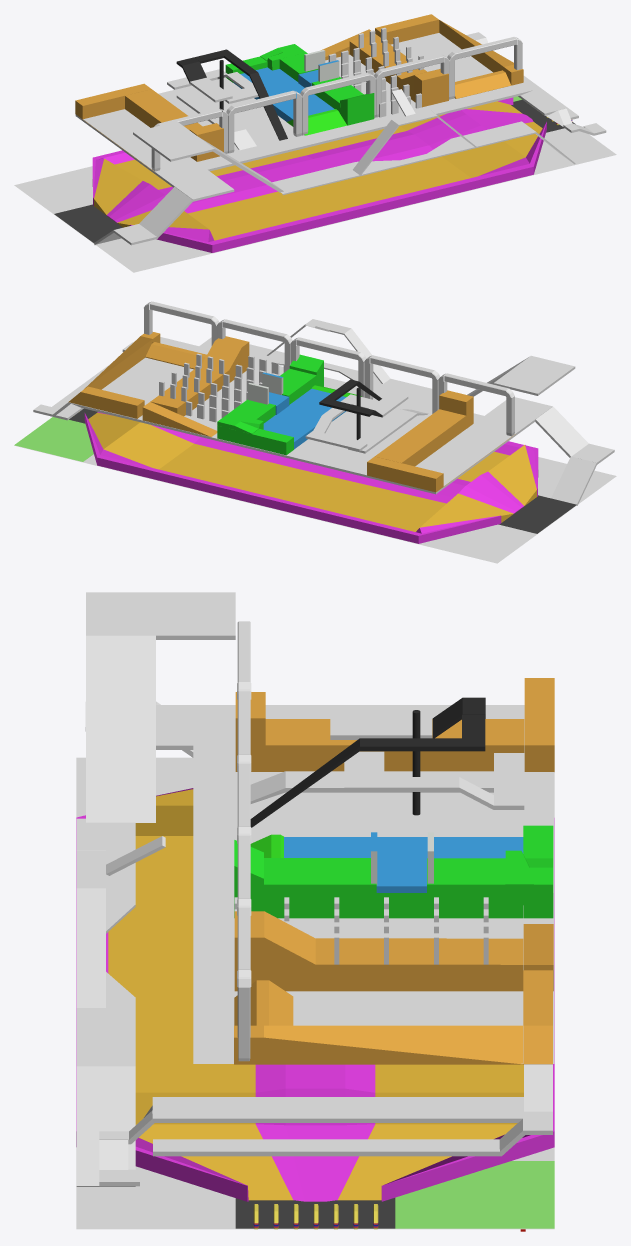
File: dcl_knockout_stadium.glb
3 renders of one model, top to bottom at view 1: azimuth 30°, elevation 25°; view 2: azimuth 150°, elevation 25°; view 3: azimuth 270°, elevation 25°, orthographic. The views are drawn at different scales.
Visible parts, largest first — view 1: course0, game_floor, course, c3, arches, spectator_ramp, c2, player_ramp, c1, c5, c4, ramp.005 (+6 smaller); view 2: course0, game_floor, c3, arches, c1, player_ramp, course, c2, c4, c5, spectator_ramp, plane0 (+5 smaller); view 3: course0, game_floor, c3, front_ramp, spectator_ramp, c4, c5, c2, ramp_upper, c1, course, plane0 (+6 smaller).
Part boxes in pixels (x1,y1,x2,y2): course0: (92,97,546,252); game_floor: (75,33,533,179); course: (14,128,616,272); c3: (225,44,374,135); arches: (151,37,522,171); spectator_ramp: (272,89,575,195); c2: (167,49,287,150); player_ramp: (94,162,234,245); c1: (75,83,223,171); c5: (375,14,523,98); c4: (321,29,448,107); ramp.005: (133,121,214,161); course0: (84,412,538,543); game_floor: (68,337,525,494); c3: (217,354,361,455); arches: (144,301,514,436); c1: (367,390,515,492); player_ramp: (474,397,614,505); course: (14,445,616,563); c2: (305,379,428,453); c4: (142,336,249,436); c5: (68,332,206,418); spectator_ramp: (199,319,432,402); plane0: (14,417,93,461); course0: (76,788,554,1201); game_floor: (193,705,554,1063); c3: (234,825,553,918); front_ramp: (99,1064,552,1186); spectator_ramp: (76,818,165,1186); c4: (234,911,553,991); c5: (234,970,552,1064); c2: (250,697,524,827); ramp_upper: (86,635,155,822); c1: (235,678,554,771); course: (76,757,554,1229); plane0: (395,1161,554,1228).
Size of what is drawn, in the model's own units: 112 by 24.32 by 48.
